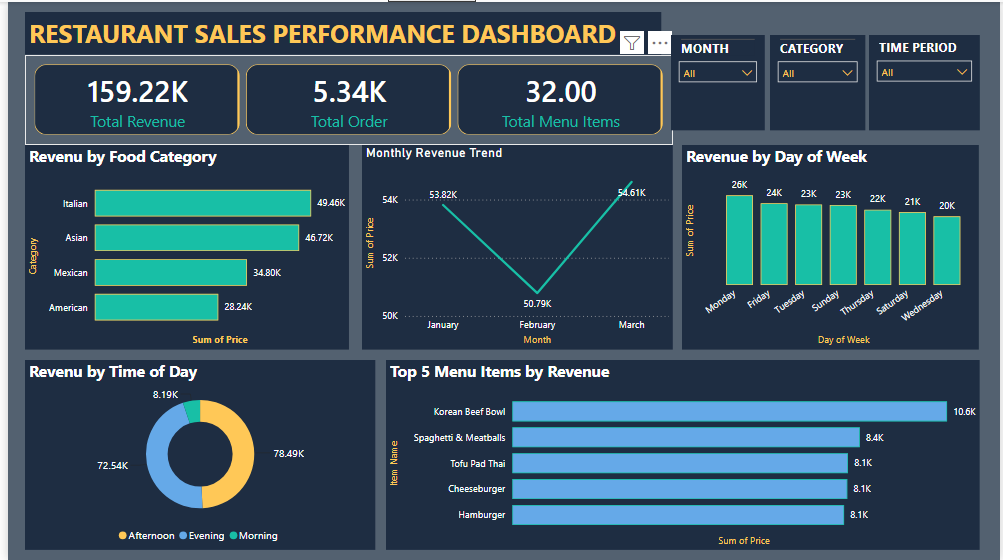

The dashboard page shown, as its layout file describes it:
{"tool":"powerbi","page":{"name":"Page 1","canvas":[1280,720],"ordinal":0},"visuals":[{"type":"textbox","box":[21.8,13.4,821.4,55.4],"z":0},{"type":"cardVisual","fields":{"Data":["order_details.Total Revenue","order_details.Total Order","order_details.Total Menu Items"]},"box":[21.8,68.9,836.5,115.9],"z":1000},{"type":"clusteredBarChart","title":"Revenu by Food Category","fields":{"Category":["order_details.Category"],"Y":["Sum(order_details.Price)"]},"box":[21.8,184.8,418.3,263.7],"z":2000},{"type":"lineChart","title":"Monthly Revenue Trend","fields":{"Y":["Sum(order_details.Price)"],"Category":["order_details.Order Date.Variation.Date Hierarchy.Month"]},"box":[456.9,184.8,401.5,263.7],"z":3000},{"type":"donutChart","title":"Revenu by Time of Day","fields":{"Category":["order_details.Time Period"],"Y":["Sum(order_details.Price)"]},"box":[21.8,461.9,451.9,245.2],"z":4000},{"type":"clusteredColumnChart","title":"Revenue by Day of Week","fields":{"Category":["order_details.Day of Week"],"Y":["Sum(order_details.Price)"]},"box":[870.1,184.8,383,263.7],"z":5000},{"type":"clusteredBarChart","title":"Top 5 Menu Items by Revenue","fields":{"Category":["order_details.Item Name"],"Y":["Sum(order_details.Price)"]},"box":[487.1,461.9,766,245.2],"z":6000},{"type":"slicer","fields":{"Values":["order_details.Month"]},"box":[855,42,120.9,122.6],"z":7000},{"type":"slicer","fields":{"Values":["order_details.Category"]},"box":[982.7,42,122.6,122.6],"z":8000},{"type":"slicer","fields":{"Values":["order_details.Time Period"]},"box":[1110.3,42,142.8,122.6],"z":9000}]}

Visuals, with their boxes in screenshot pixels (x1, y1, x2, y2), scaled from the page's 1280x720 canvas onto the 1003x560 screenshot:
textbox: [left=17, top=10, right=661, bottom=54]
cardVisual - order_details.Total Revenue x order_details.Total Order: [left=17, top=54, right=673, bottom=144]
"Revenu by Food Category" clusteredBarChart: [left=17, top=144, right=345, bottom=349]
"Monthly Revenue Trend" lineChart: [left=358, top=144, right=673, bottom=349]
"Revenu by Time of Day" donutChart: [left=17, top=359, right=371, bottom=550]
"Revenue by Day of Week" clusteredColumnChart: [left=682, top=144, right=982, bottom=349]
"Top 5 Menu Items by Revenue" clusteredBarChart: [left=382, top=359, right=982, bottom=550]
slicer - order_details.Month: [left=670, top=33, right=765, bottom=128]
slicer - order_details.Category: [left=770, top=33, right=866, bottom=128]
slicer - order_details.Time Period: [left=870, top=33, right=982, bottom=128]
